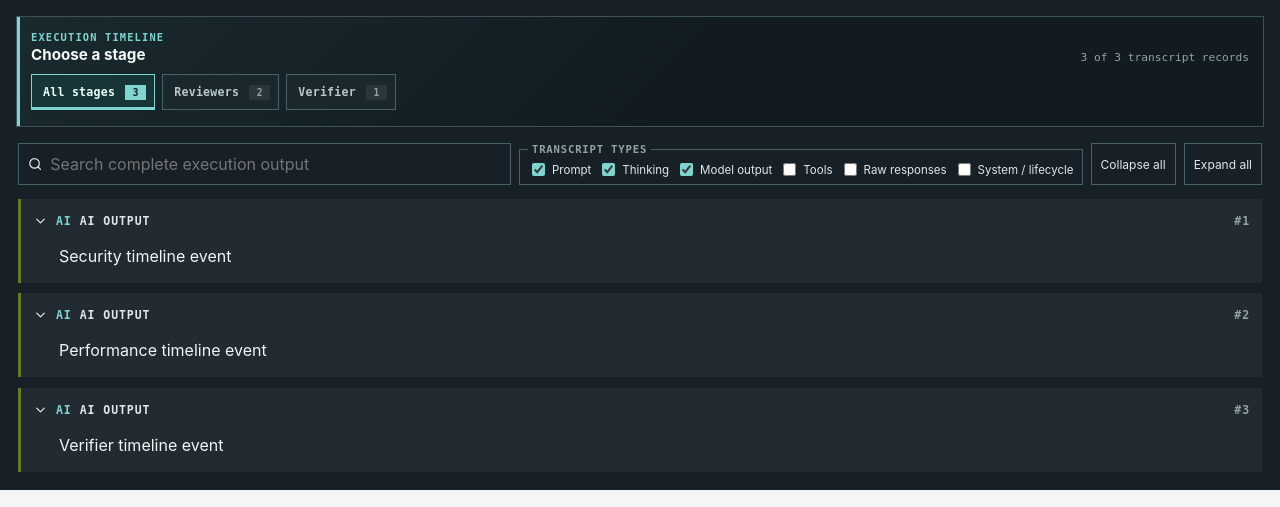
Test: selects a stage and then one reviewer timeline
This screenshot has width=1280, height=507.
What coordinates should you click on to do the following:
click the button "Reviewers 2"
I would click on:
 (221, 92)
Its box is 162,74 -> 279,110.
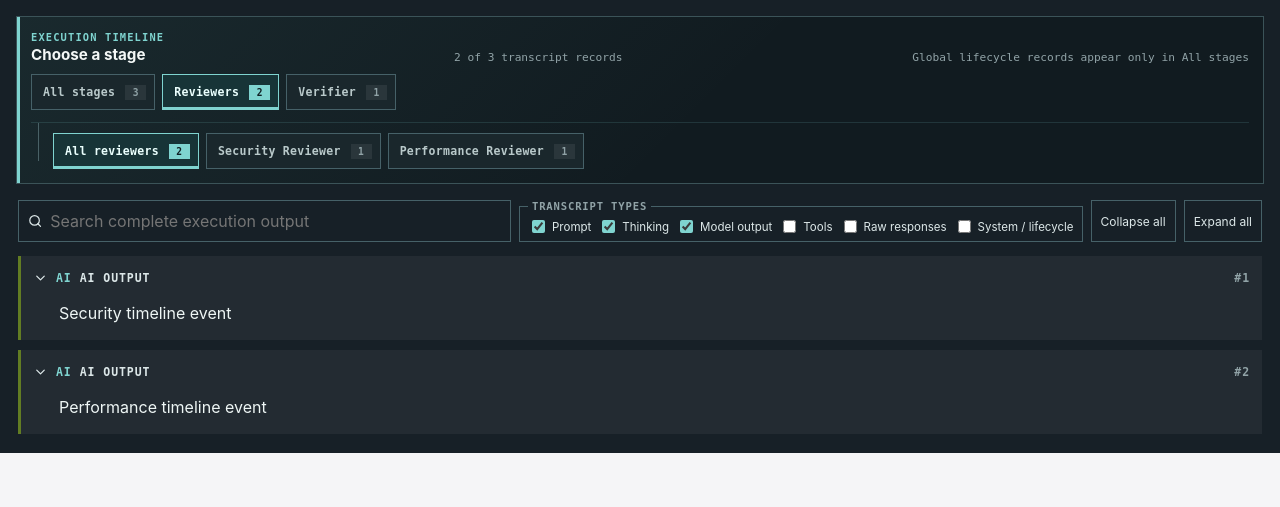
Expected: the text "Security timeline event" is shown, 59,303 -> 232,323
Result: the text "Verifier timeline event" is gone
What coordinates should you click on to do the following:
click the button "Security Reviewer 1"
I would click on:
 (293, 151)
Its box is 206,133 -> 381,169.
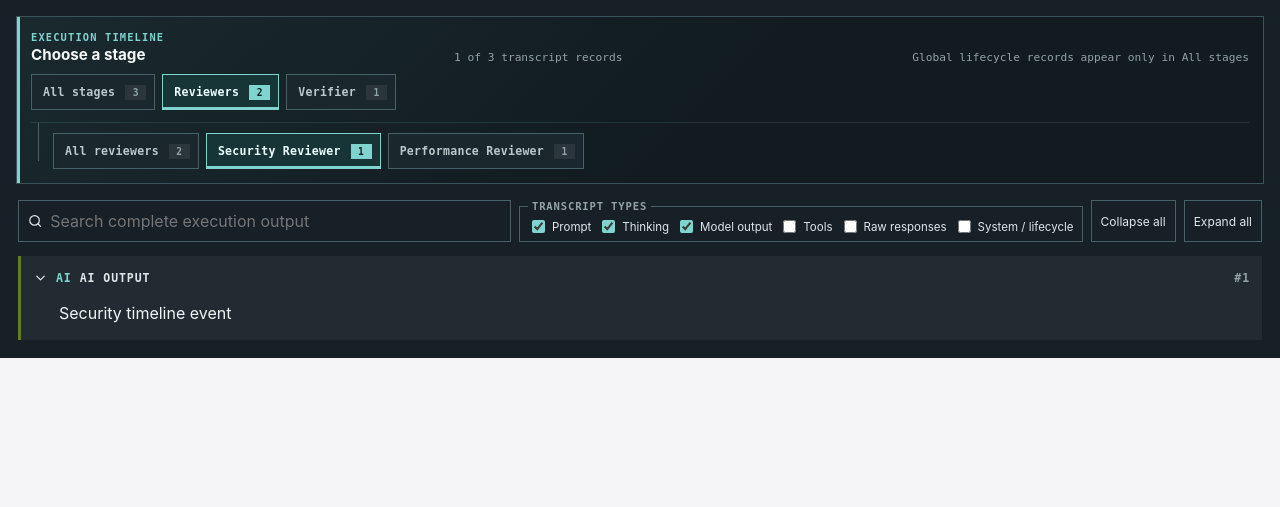
Expected: the text "Security timeline event" is shown, 59,303 -> 232,323
Result: the text "Performance timeline event" is gone
